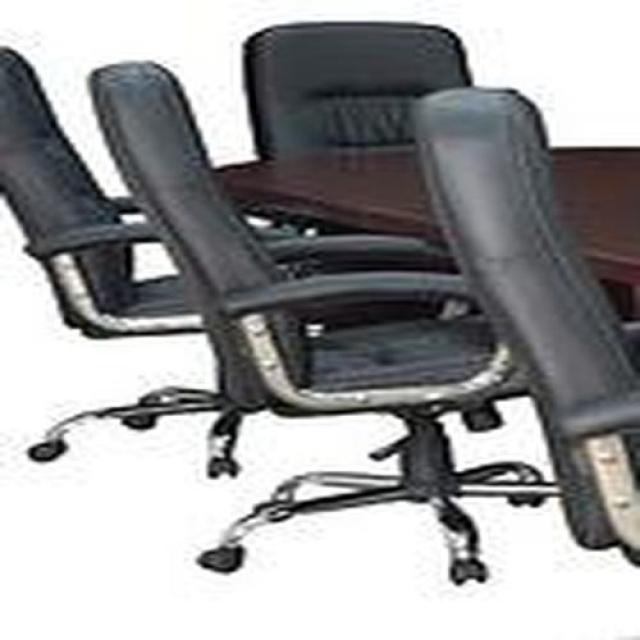swivelchair: (0, 22, 640, 593)
